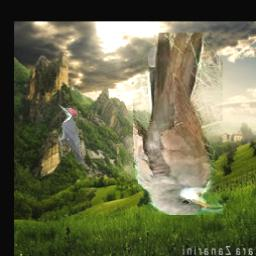Cuckoo: (132, 33, 222, 215)
Woodpecker: (57, 104, 85, 164)
